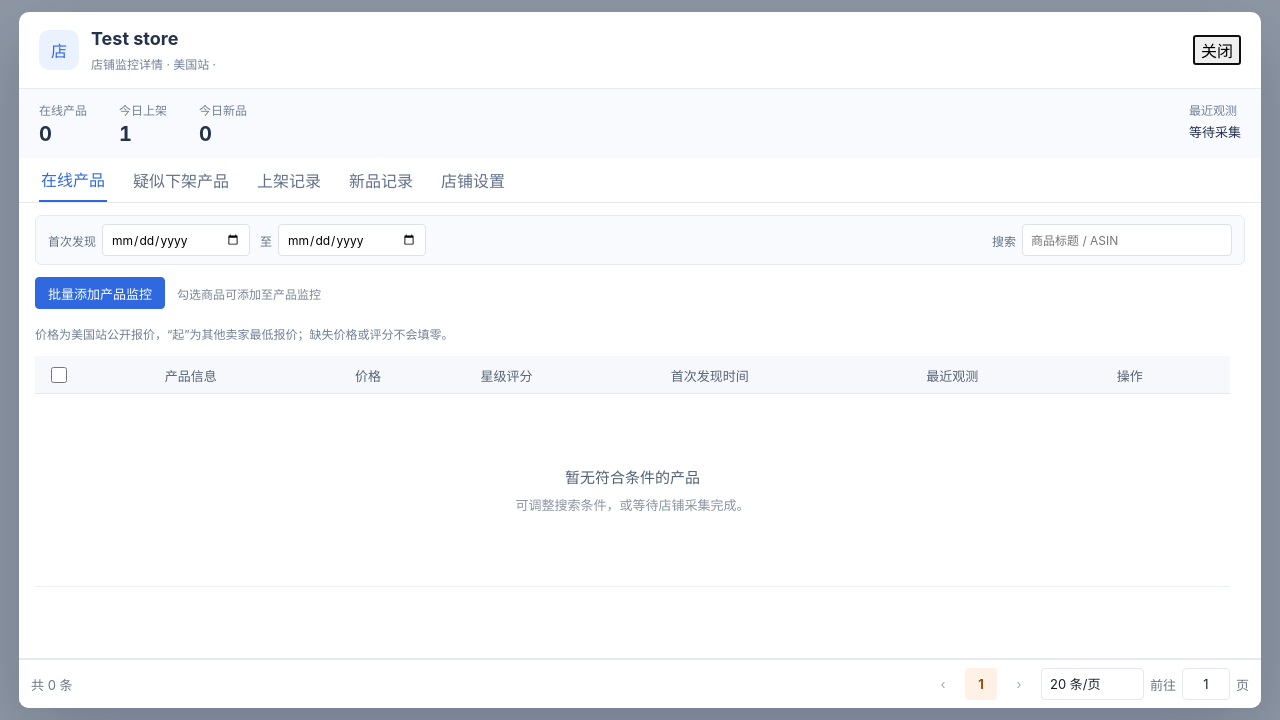
Test: store product monitoring › shows four tabs and defaults new-product history to the Pacific current day
Click the button "上架记录": (289, 180) top-left (255, 158), bottom-right (323, 202)
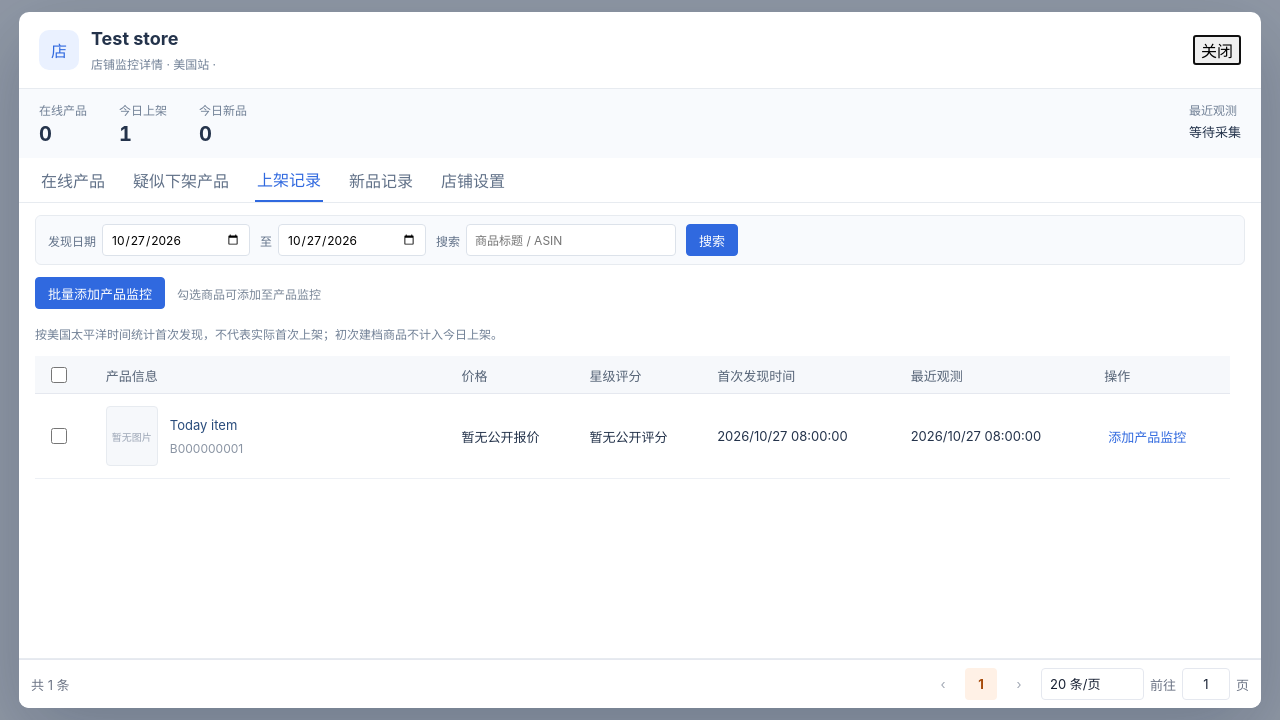
Expected: the text "Yesterday item" is not shown
Now the text "Today item" is shown, box top-left (170, 416), bottom-right (243, 436)
In the date field named "上架开始日期": (176, 240) top-left (102, 224), bottom-right (250, 256), type "2026-10-26"
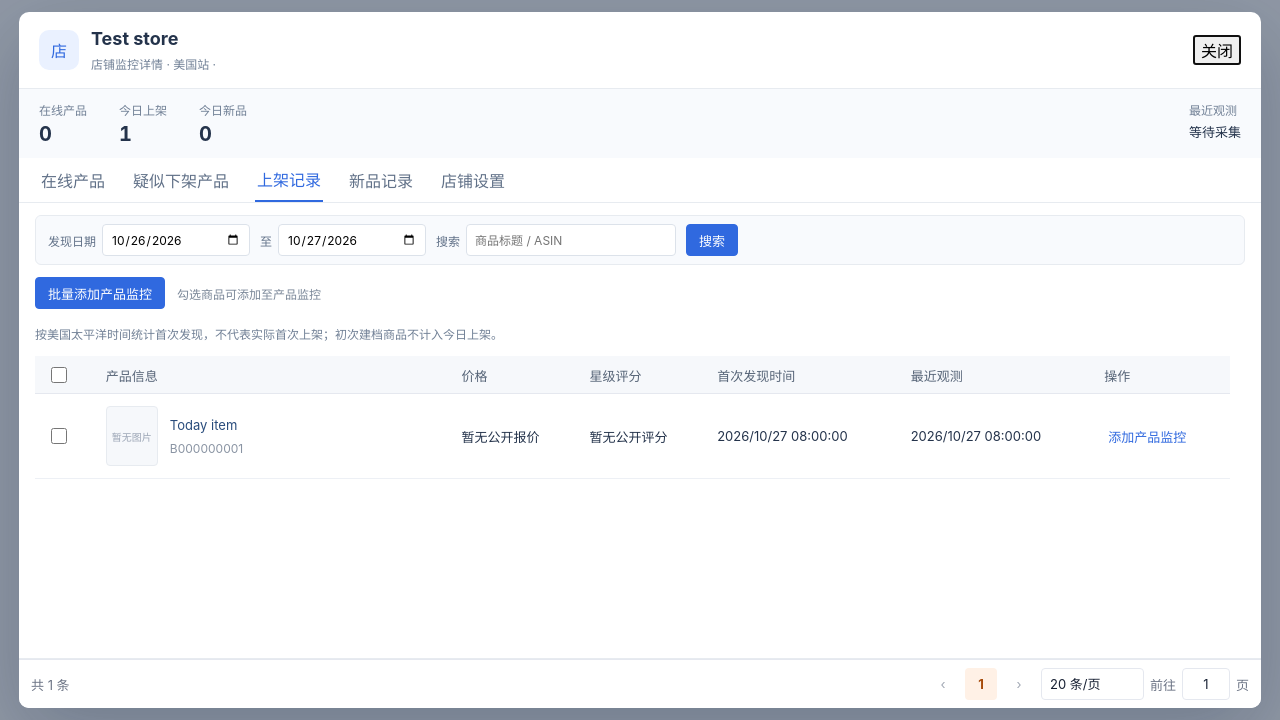
Expected: the text "Yesterday item" is not shown
Click the button "搜索": (712, 240) top-left (686, 224), bottom-right (738, 256)
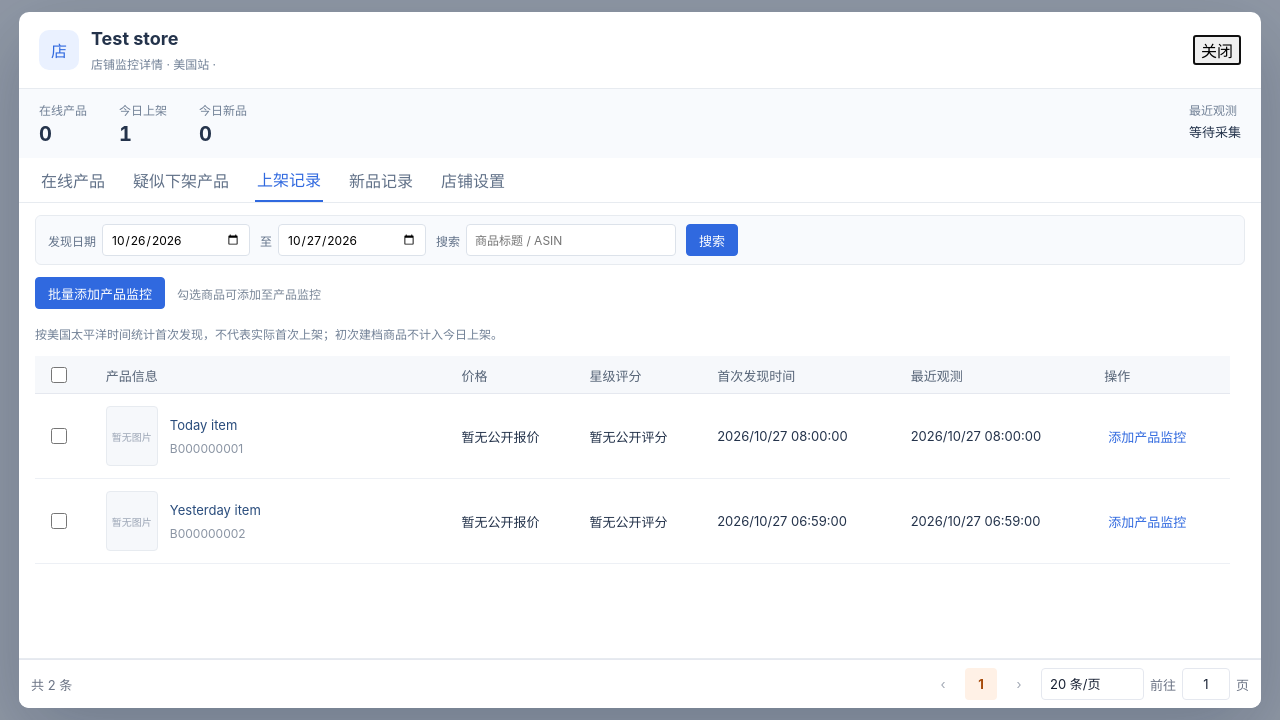
Now the text "Yesterday item" is shown, box top-left (170, 501), bottom-right (261, 521)
In the field named "搜索标题或ASIN": (571, 240) top-left (466, 224), bottom-right (676, 256), type "Today"
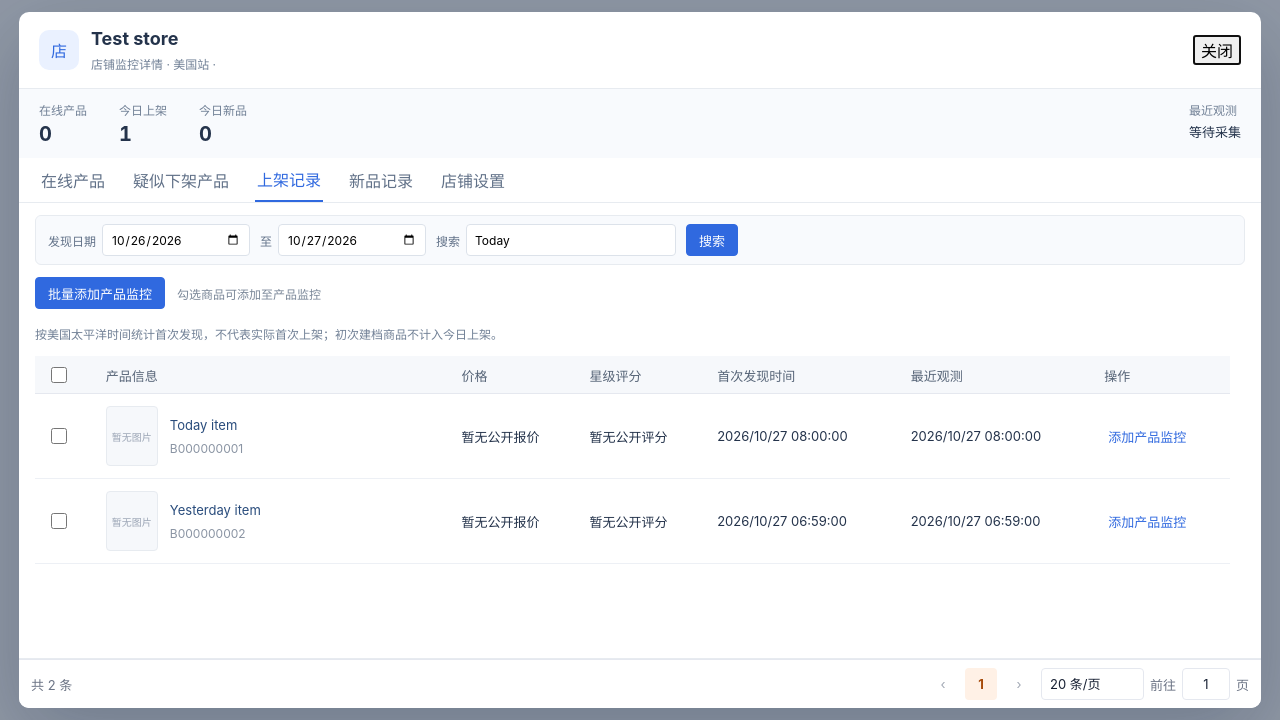
Now the text "Yesterday item" is shown, box top-left (170, 501), bottom-right (261, 521)
Click the button "搜索": (712, 240) top-left (686, 224), bottom-right (738, 256)
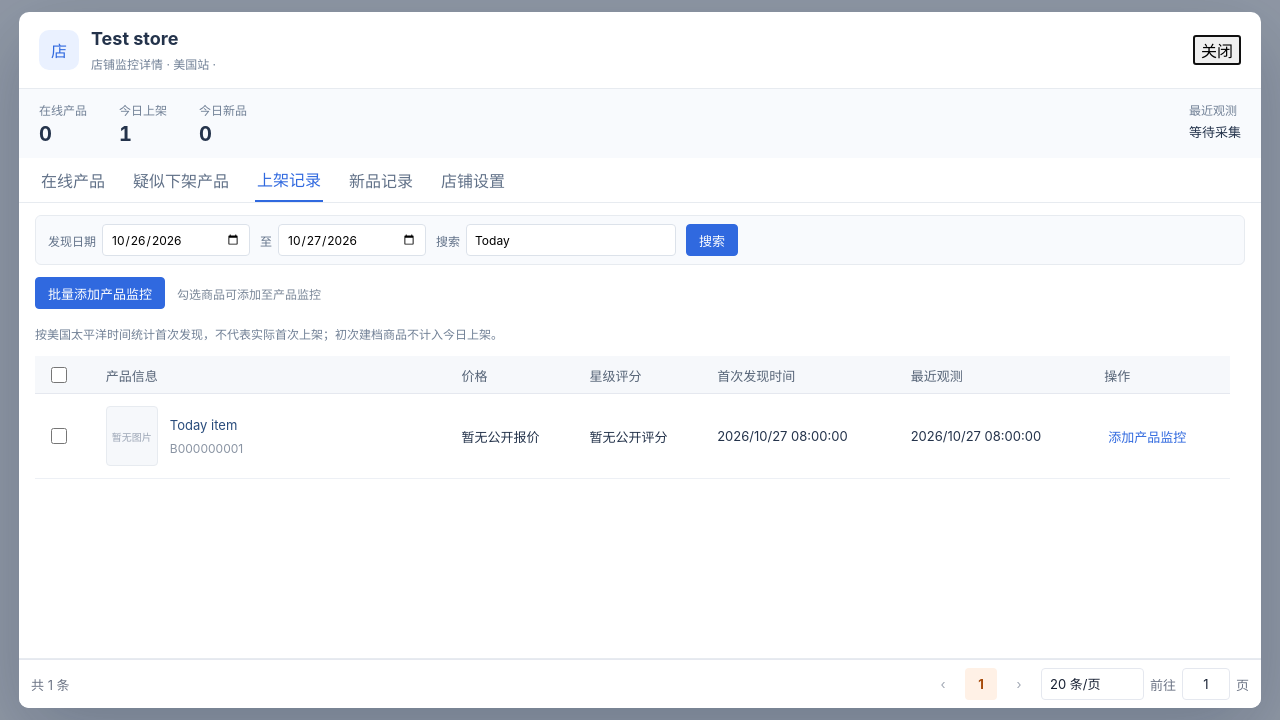
Now the text "Yesterday item" is gone
In the date field named "上架结束日期": (352, 240) top-left (278, 224), bottom-right (426, 256), type "2026-10-25"
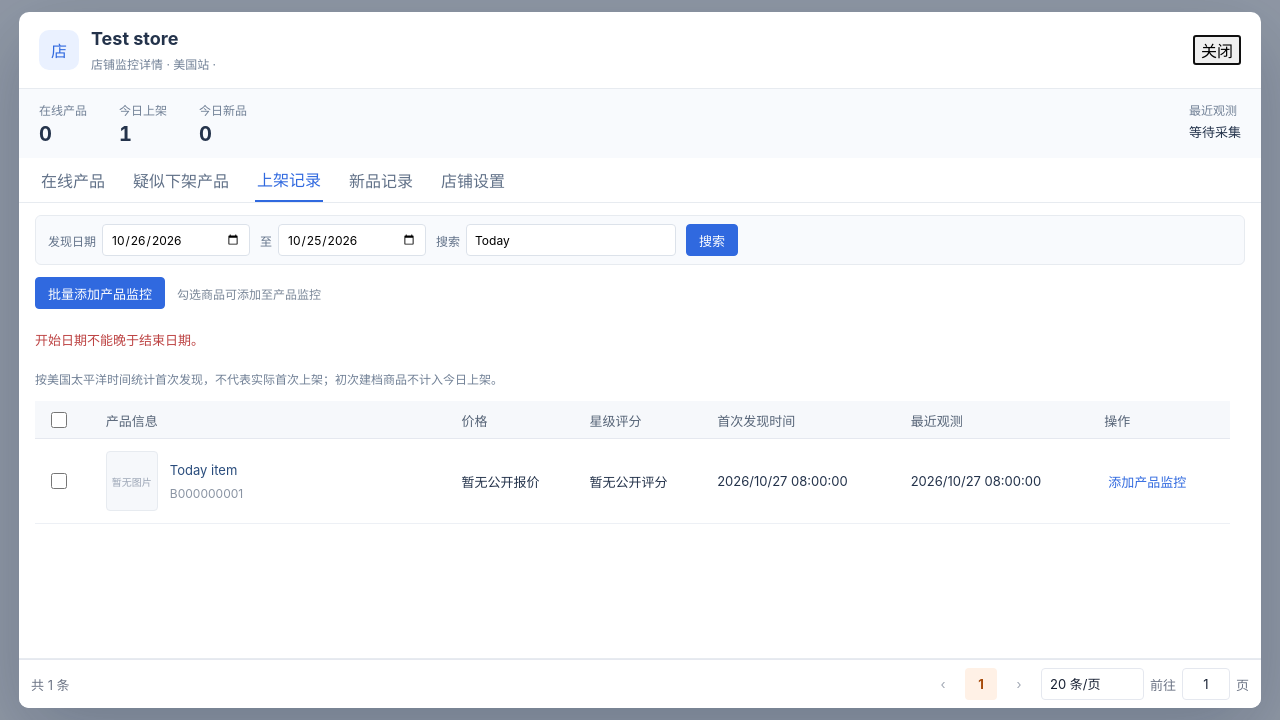
Now the text "开始日期不能晚于结束日期" is shown, box top-left (35, 332), bottom-right (204, 348)
